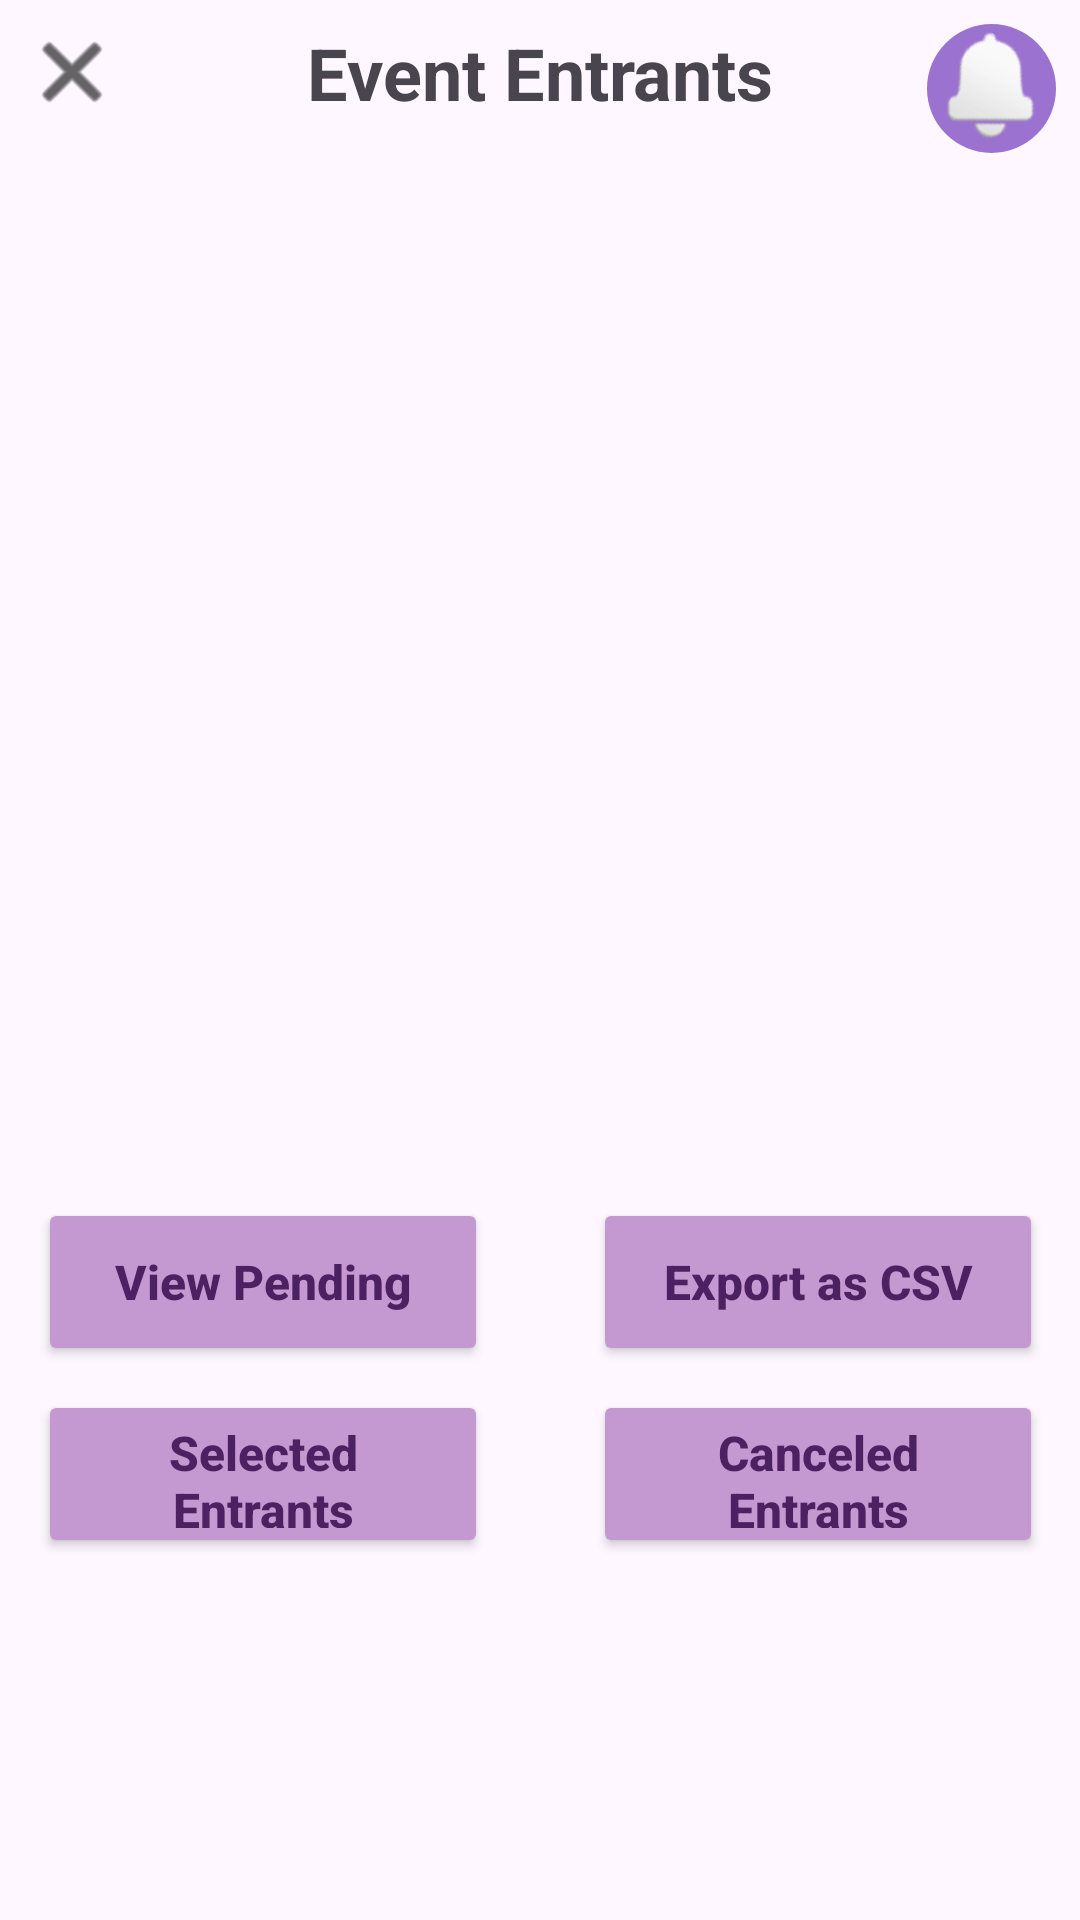

Locate icon controls on the screen. Image size 1080px x 1920px, boxes as (x1, y1, x2, y2).
close clear cancel: (42, 42, 102, 102)
